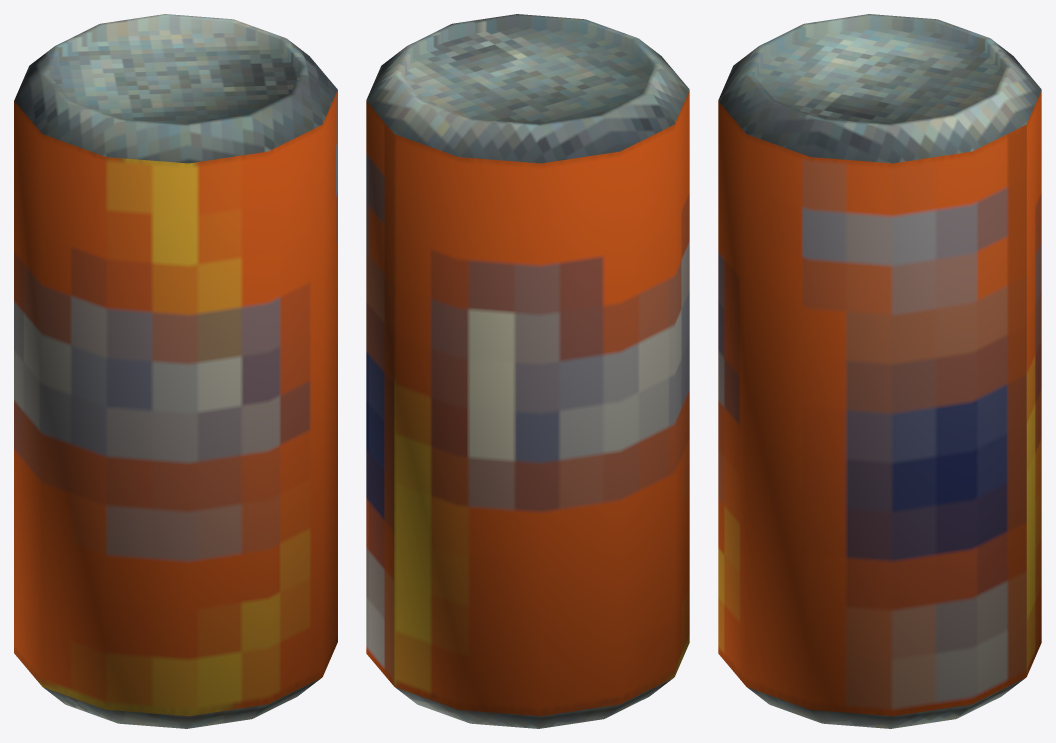
Rendered from can_fantac.obj.
The picture shows the model from 3 angles, left to right: view 1: azimuth 30°, elevation 25°; view 2: azimuth 150°, elevation 25°; view 3: azimuth 270°, elevation 25°; orthographic projection.
Visible parts, largest first — view 1: can_fantac; view 2: can_fantac; view 3: can_fantac.
Part boxes in pixels (bbox=[...]): can_fantac: bbox=[14, 14, 337, 728]; can_fantac: bbox=[366, 14, 689, 728]; can_fantac: bbox=[718, 14, 1041, 728].
Bounding box in the file's own units: 0.073 × 0.1498 × 0.073.
